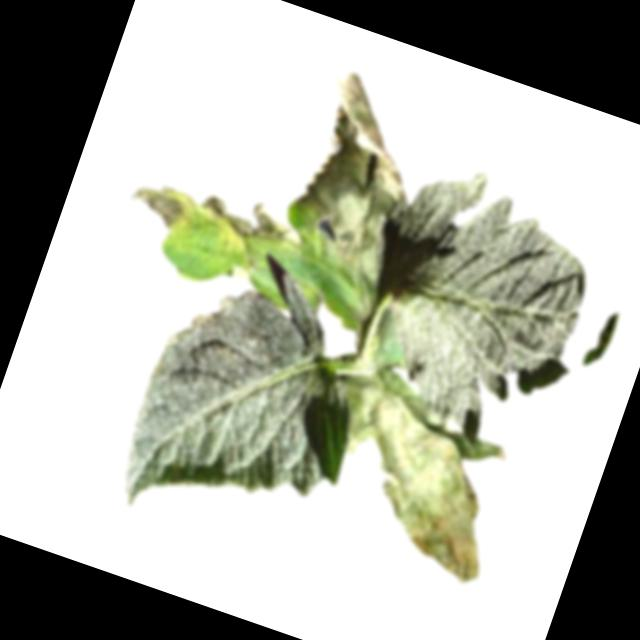Late_blight: (289, 356, 533, 589), (275, 64, 436, 277), (189, 182, 296, 256), (120, 171, 200, 236), (219, 238, 262, 284), (338, 287, 375, 324)
